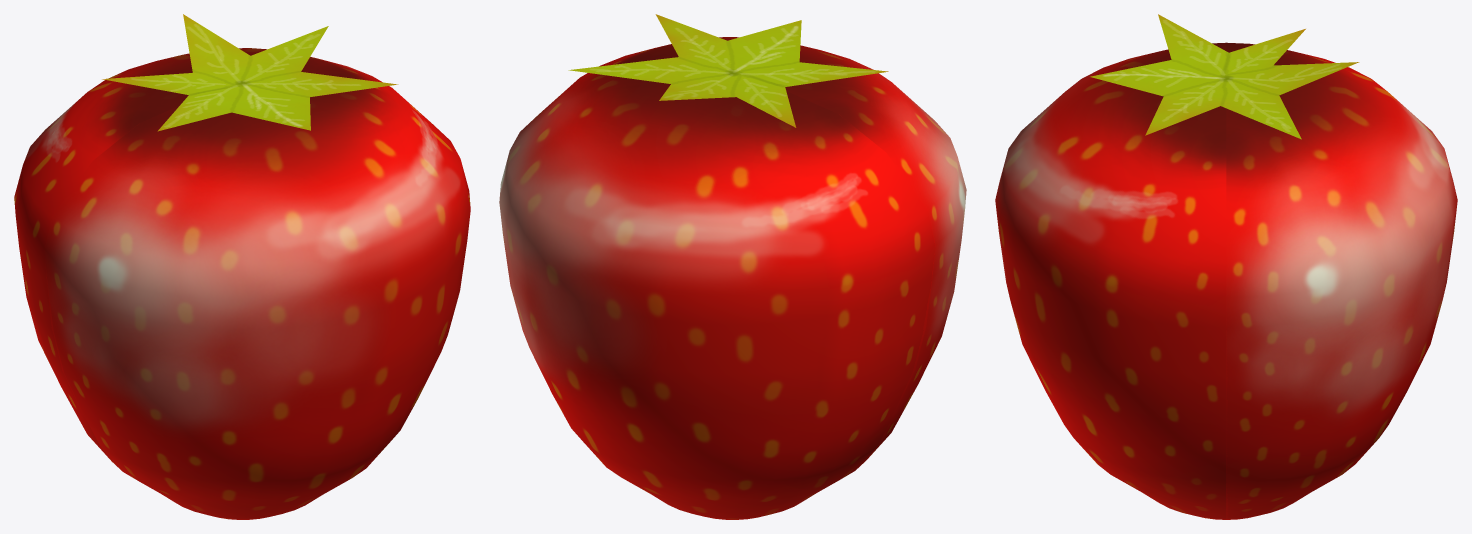
Rendered from strawberry.glb.
3 renders of one model, left to right at view 1: azimuth 30°, elevation 25°; view 2: azimuth 150°, elevation 25°; view 3: azimuth 270°, elevation 25°, orthographic. The views are drawn at different scales.
Parts seen in each view (by area): view 1: Plane; view 2: Plane; view 3: Plane.
Boxes of the visible parts, x1,y1,x2,y2 form: Plane: (14, 14, 470, 519); Plane: (499, 14, 966, 519); Plane: (995, 14, 1457, 519).
Size of the model in its own units: 191 by 204 by 191.
Materials: 1 (1 with a texture image).
